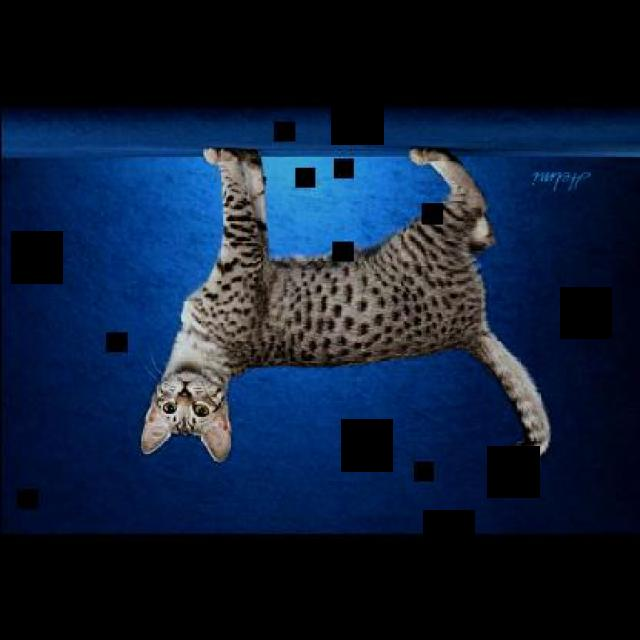unauthorized: (138, 145, 551, 468)
